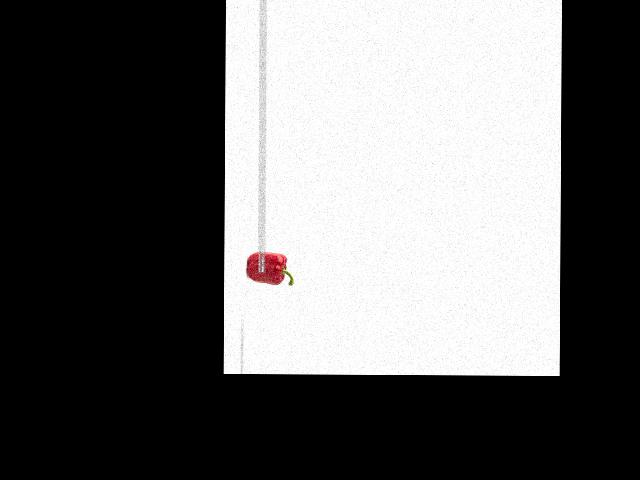bell_pepper: (247, 249, 296, 290)
